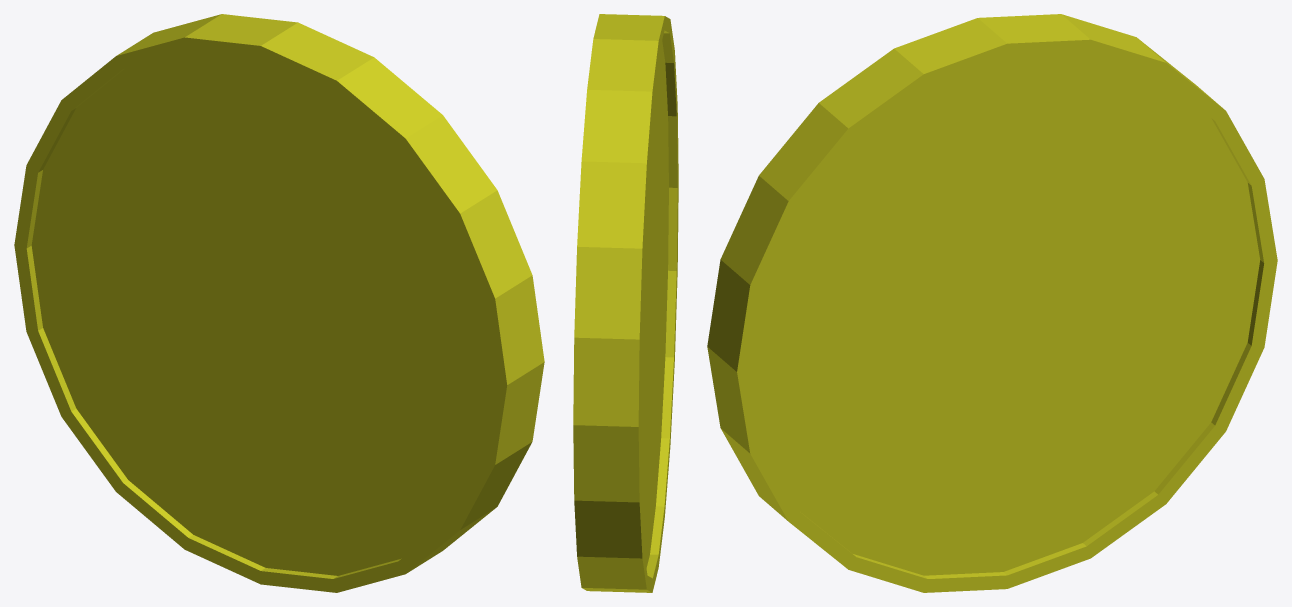
File: Low Poly Coin_000137.obj
3 renders of one model, left to right at view 1: azimuth 30°, elevation 25°; view 2: azimuth 150°, elevation 25°; view 3: azimuth 270°, elevation 25°, orthographic. The views are drawn at different scales.
Parts seen in each view (by area): view 1: Cylinder; view 2: Cylinder; view 3: Cylinder.
Boxes of the visible parts, x1=… form: Cylinder: x1=14, y1=14, x2=544, y2=592; Cylinder: x1=573, y1=14, x2=678, y2=592; Cylinder: x1=707, y1=14, x2=1277, y2=592.
Size of the model in its own units: 1.08 by 2 by 1.9.
